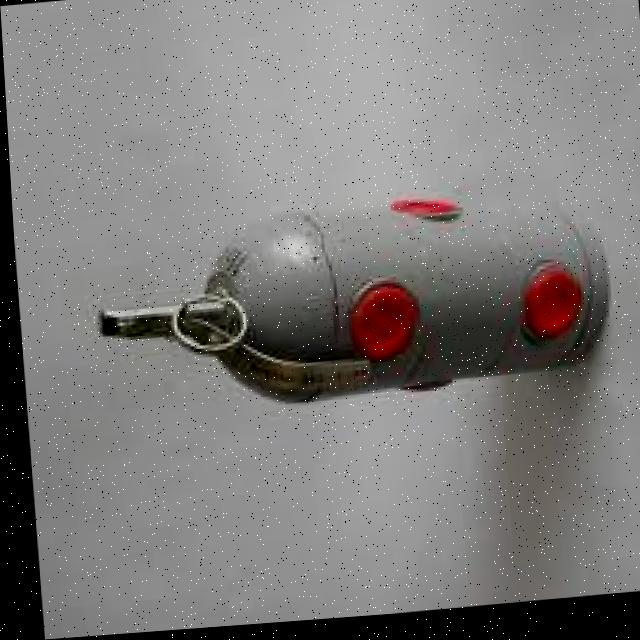grenade: (80, 179, 608, 431)
